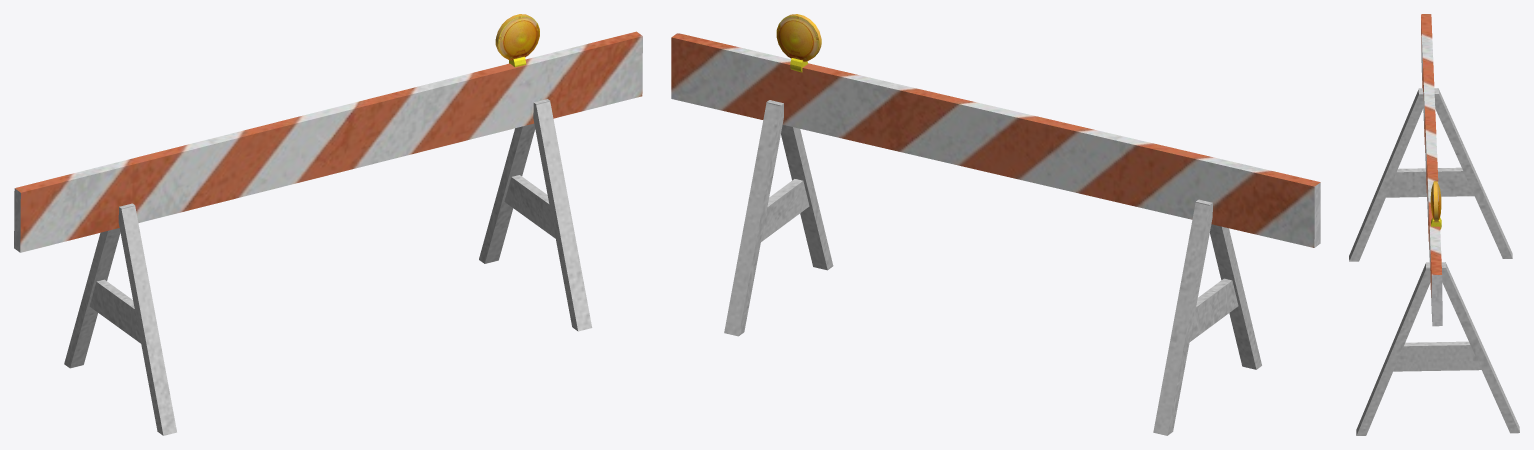
The model's file is TrafficBarricade1.obj.
The picture shows the model from 3 angles, left to right: view 1: azimuth 30°, elevation 25°; view 2: azimuth 150°, elevation 25°; view 3: azimuth 270°, elevation 25°; orthographic projection. The views are drawn at different scales.
Parts seen in each view (by area): view 1: A_Barricade1S_lambert1_0.001, Light1_lambert1_0.001; view 2: A_Barricade1S_lambert1_0.001, Light1_lambert1_0.001; view 3: A_Barricade1S_lambert1_0.001, Light1_lambert1_0.001.
Boxes of the visible parts, x1,y1,x2,y2 form: A_Barricade1S_lambert1_0.001: [14, 31, 642, 435]; Light1_lambert1_0.001: [495, 14, 539, 67]; A_Barricade1S_lambert1_0.001: [671, 33, 1320, 435]; Light1_lambert1_0.001: [776, 14, 821, 72]; A_Barricade1S_lambert1_0.001: [1349, 14, 1519, 435]; Light1_lambert1_0.001: [1430, 181, 1441, 229].
Size of the model in its own units: 2.46 by 1.07 by 0.6841.
